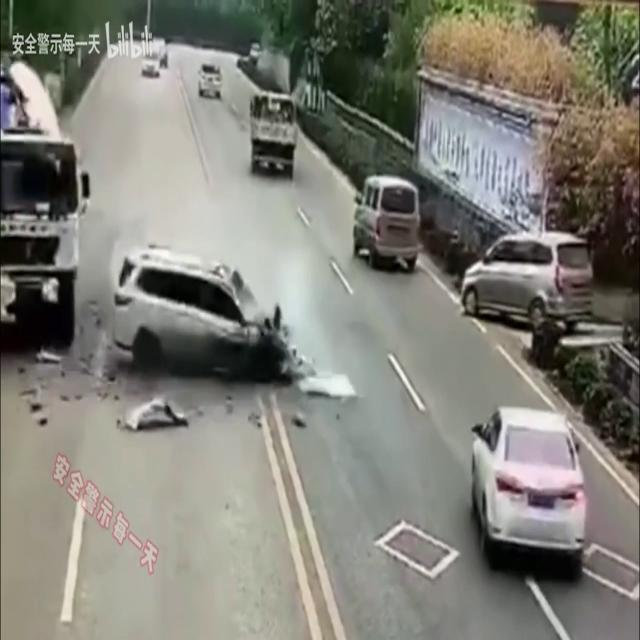accident: (111, 246, 306, 384), (0, 68, 80, 348)
